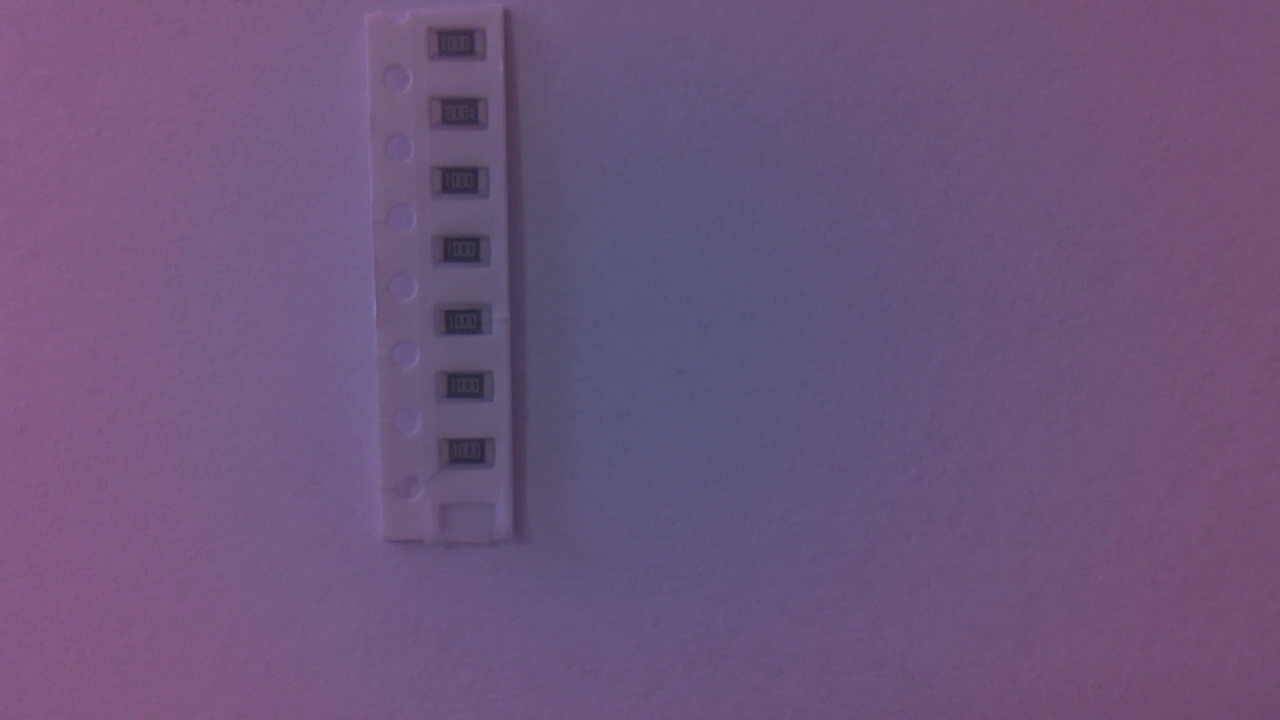Resistor: (440, 374, 504, 409), (433, 99, 494, 135), (437, 306, 497, 341), (435, 170, 498, 203), (428, 33, 490, 66), (435, 237, 493, 271), (441, 442, 502, 471)
